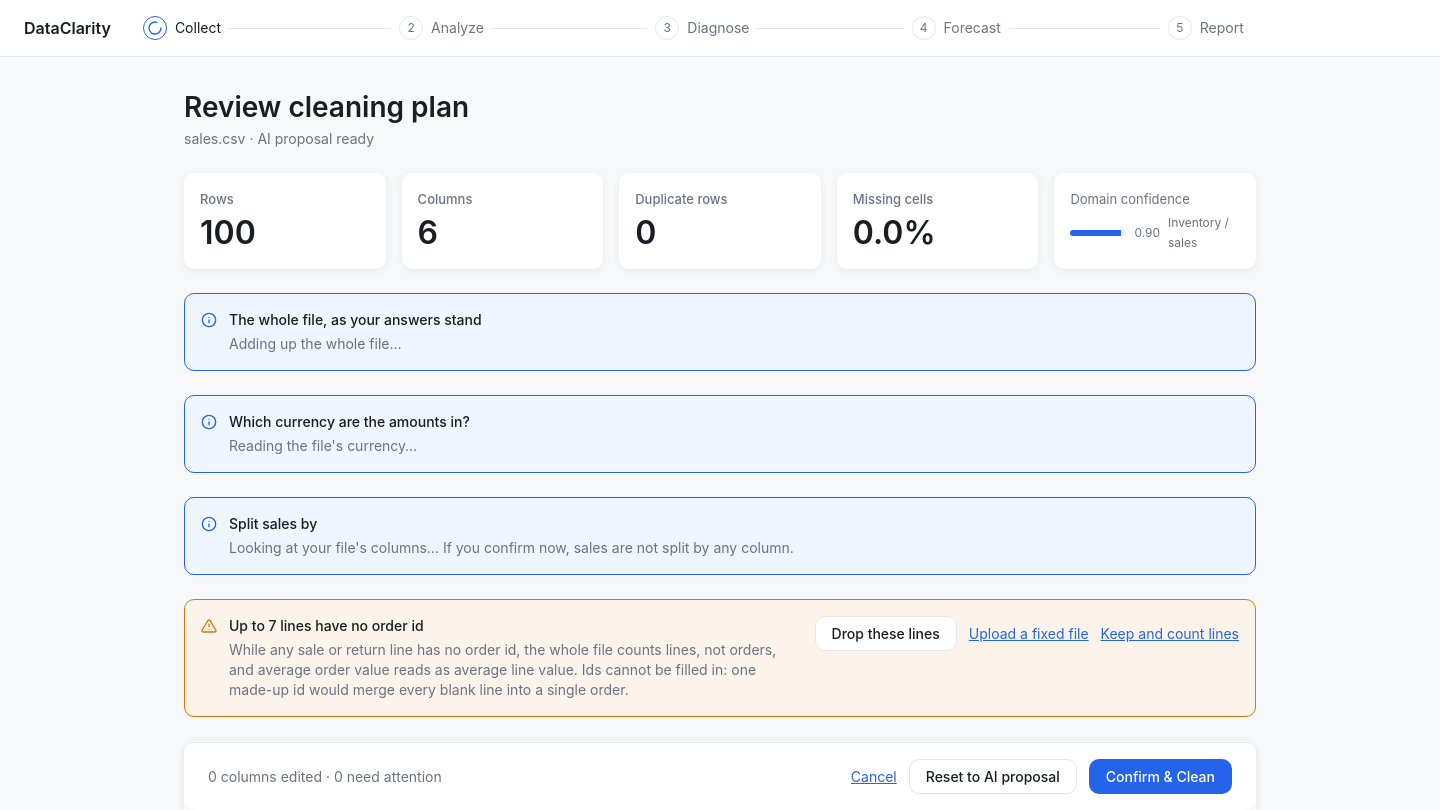
Scenario: ReviewPage: blank order ids › keeps the lines and hides the notice when asked (mutation check F9)
Click the button "Keep and count lines": (1170, 634) 1101,624 -> 1239,644
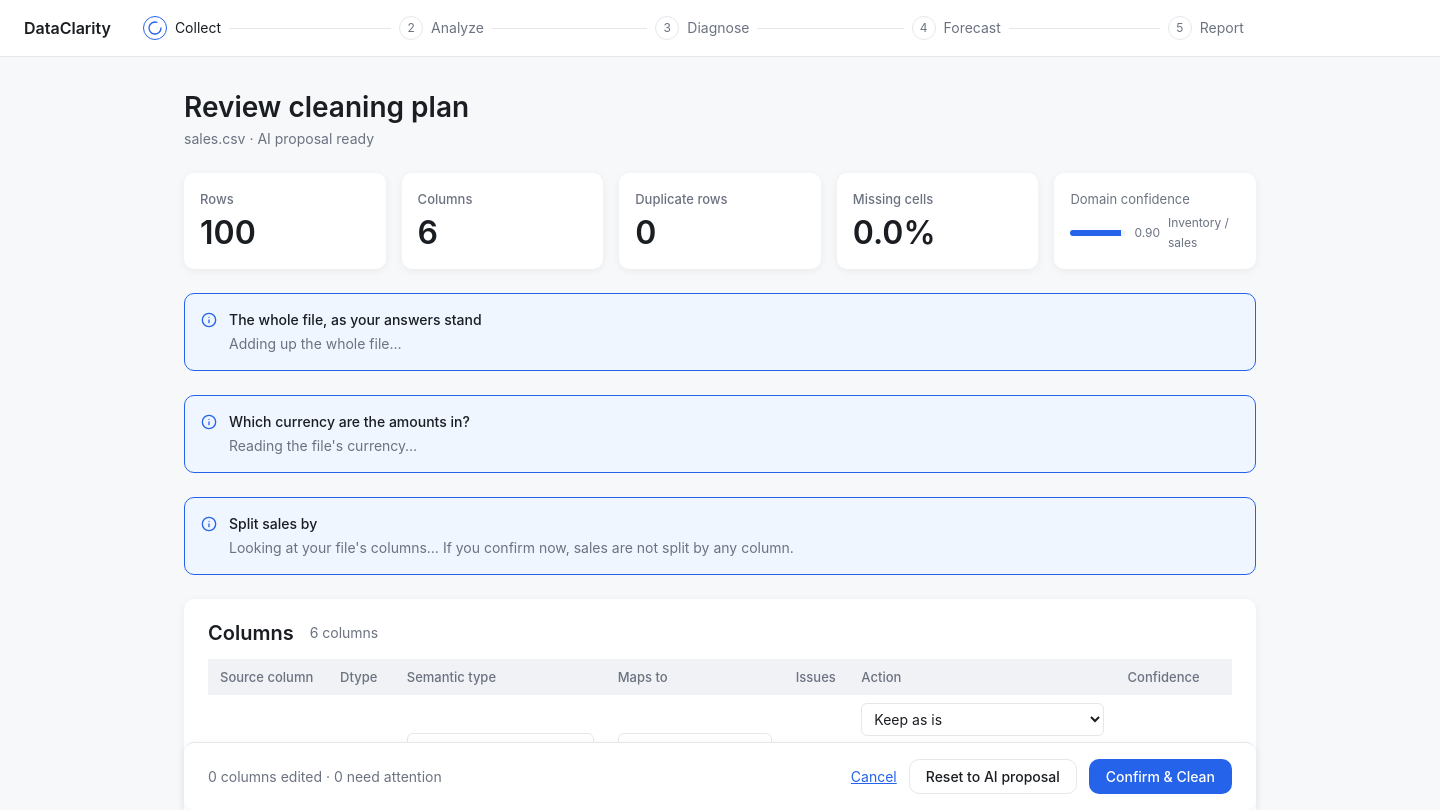
Expected: the text "have no order id" is gone
